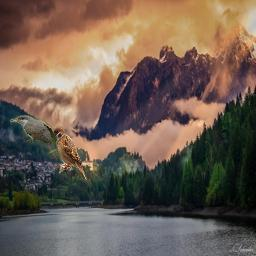Cuckoo: (11, 115, 60, 159)
Sparrow: (51, 126, 88, 180)
